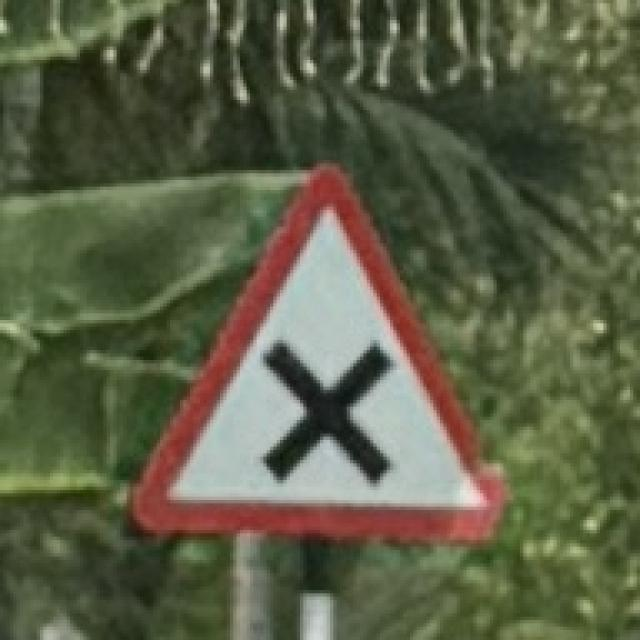CROSS_ROAD: (104, 151, 514, 552)
